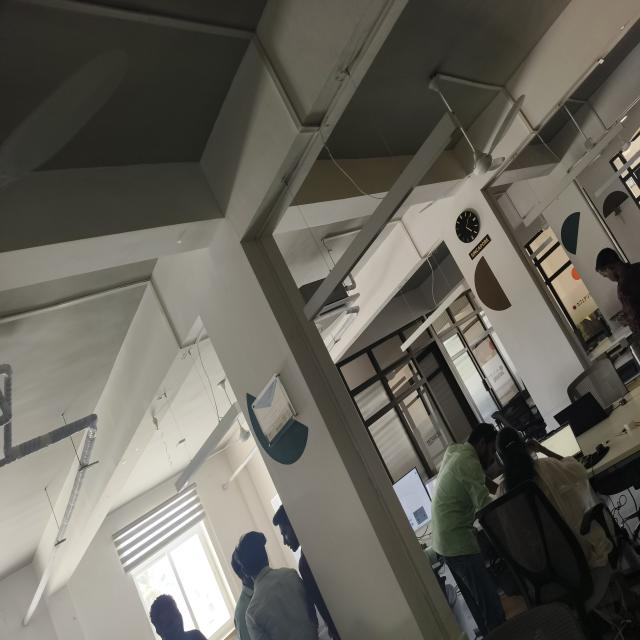light_off: (290, 100, 476, 327), (517, 110, 632, 230), (159, 398, 272, 496), (384, 278, 470, 357)
